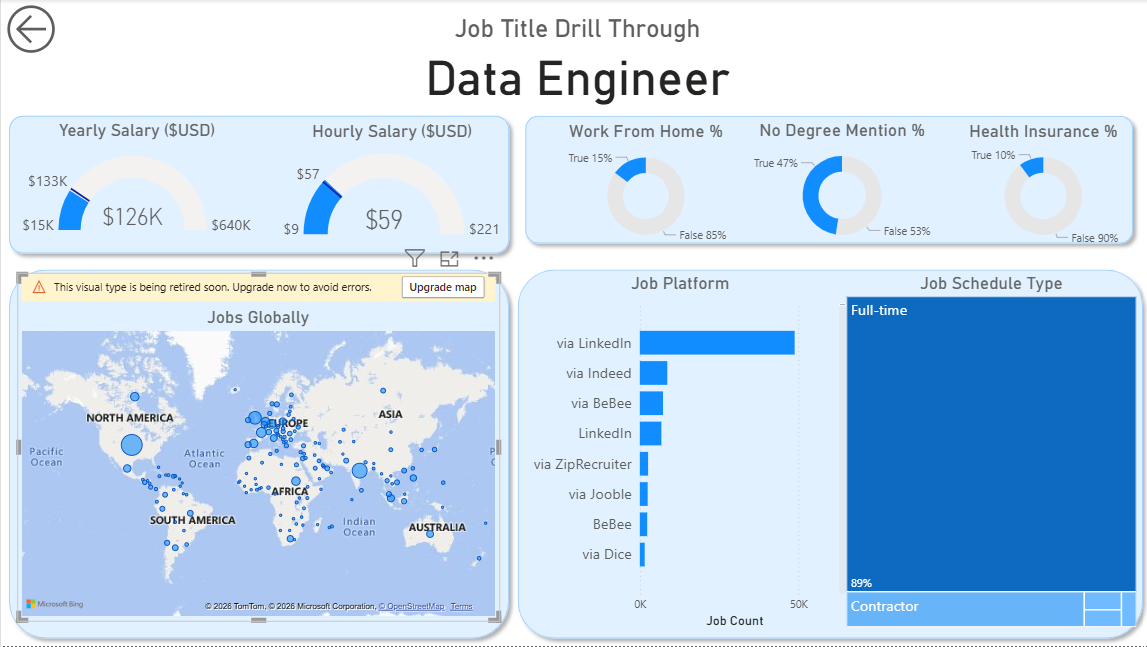

Layout of this report page (visuals, bound fields, positions):
{"tool":"powerbi","page":{"name":"Job Title Drill Through","canvas":[1280,720],"ordinal":1},"visuals":[{"type":"shape","box":[0,291.7,574.2,428.4],"z":0,"group":"g1"},{"type":"group","id":"g1","title":"Background","box":[0,121,1280,599.7],"z":500},{"type":"cardVisual","fields":{"Data":["Min(job_postings_flat.job_title_short)"]},"box":[245.6,0,791.8,135.4],"z":1000},{"type":"shape","box":[0,121,574.6,171.1],"z":1000,"group":"g1"},{"type":"donutChart","title":"Work From Home %","fields":{"Y":["CountNonNull(job_postings_flat.job_work_from_home)"],"Category":["job_postings_flat.job_work_from_home"]},"box":[615,136.3,205.9,144.7],"z":1500},{"type":"shape","box":[574.6,121,694.3,160],"z":2000,"group":"g1"},{"type":"gauge","title":"Yearly Salary ($USD)","fields":{"Y":["Median(job_postings_flat.salary_year_avg)"],"MinValue":["Min(job_postings_flat.salary_year_avg)"],"MaxValue":["Max(job_postings_flat.salary_year_avg)"],"TargetValue":["Avg(job_postings_flat.salary_year_avg)1"]},"box":[14.3,134.7,274.1,145.4],"z":2000},{"type":"gauge","title":"Hourly Salary ($USD)","fields":{"Y":["Median(job_postings_flat.salary_hour_avg)"],"MinValue":["Min(job_postings_flat.salary_hour_avg)1"],"MaxValue":["Max(job_postings_flat.salary_hour_avg)2"],"TargetValue":["Avg(job_postings_flat.salary_hour_avg)3"]},"box":[305.1,135.9,261,145.4],"z":3000},{"type":"shape","box":[566.3,292.1,713.7,428.5],"z":3000,"group":"g1"},{"type":"actionButton","box":[0,0,78.9,67],"z":4000},{"type":"donutChart","title":"No Degree Mention %","fields":{"Y":["CountNonNull(job_postings_flat.job_no_degree_mention)"],"Category":["job_postings_flat.job_no_degree_mention"]},"box":[820.9,135,231,146.1],"z":5000},{"type":"donutChart","title":"Health Insurance %","fields":{"Y":["CountNonNull(job_postings_flat.job_health_insurance)"],"Category":["job_postings_flat.job_health_insurance"]},"box":[1053.2,136.3,214.3,144.7],"z":6000},{"type":"barChart","title":"Job Platform","fields":{"Category":["job_postings_flat.job_via"],"Y":["CountNonNull(job_postings_flat.job_via)"]},"box":[566.3,304.7,379.8,400.7],"z":7000},{"type":"treemap","title":"Job Schedule Type","fields":{"Values":["CountNonNull(job_postings_flat.job_schedule_type)"],"Group":["job_postings_flat.job_schedule_type"]},"box":[936.3,304.7,332.5,399.3],"z":8000},{"type":"map","title":"Jobs Globally","fields":{"Category":["job_postings_flat.job_country"],"Size":["CountNonNull(job_postings_flat.job_title_short)"]},"box":[18.5,304.4,536.9,388.1],"z":9000}]}

Visuals, with their boxes in screenshot pixels (x1, y1, x2, y2), scaled from the page's 1280x720 canvas onto the 1147x647 screenshot:
shape: <box>0,262,515,646</box>
"Background" group: <box>0,109,1146,646</box>
cardVisual - Min(job_postings_flat.job_title_short): <box>220,0,930,122</box>
shape: <box>0,109,515,262</box>
"Work From Home %" donutChart: <box>551,122,736,253</box>
shape: <box>515,109,1137,253</box>
"Yearly Salary ($USD)" gauge: <box>13,121,258,252</box>
"Hourly Salary ($USD)" gauge: <box>273,122,507,253</box>
shape: <box>507,262,1146,646</box>
actionButton: <box>0,0,71,60</box>
"No Degree Mention %" donutChart: <box>736,121,943,253</box>
"Health Insurance %" donutChart: <box>944,122,1136,253</box>
"Job Platform" barChart: <box>507,274,848,634</box>
"Job Schedule Type" treemap: <box>839,274,1137,633</box>
"Jobs Globally" map: <box>17,274,498,622</box>
